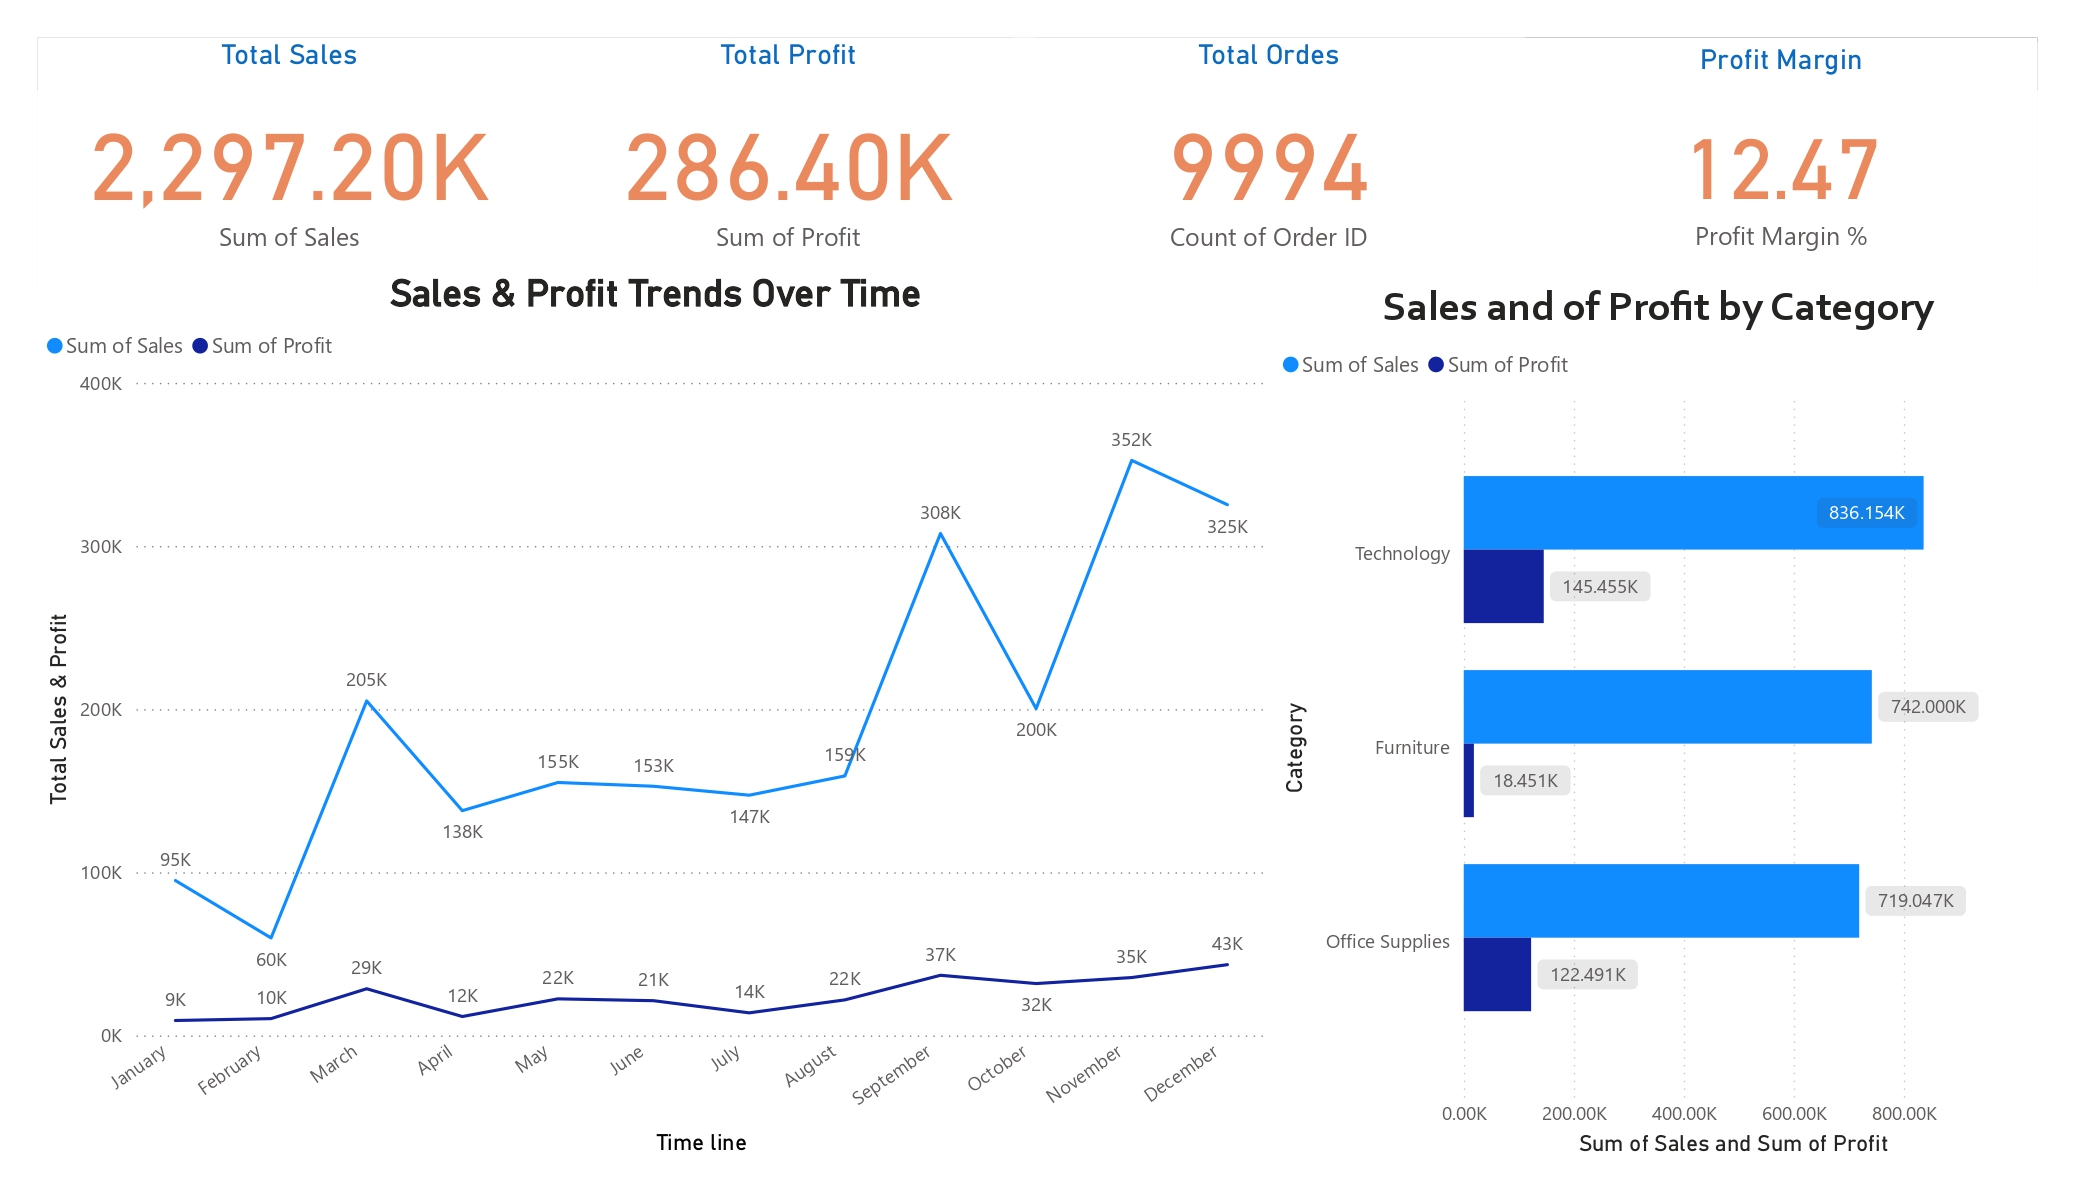

Layout of this report page (visuals, bound fields, positions):
{"tool":"powerbi","page":{"name":"Total Sales & Profit Trends","canvas":[1280,720],"ordinal":0},"visuals":[{"type":"card","title":"Total Sales","fields":{"Values":["Sum(Sample - Superstore.Sales)"]},"box":[0,0,322.5,149.6],"z":0},{"type":"card","title":"Total Profit","fields":{"Values":["Sum(Sample - Superstore.Profit)"]},"box":[322.5,0,317,149.6],"z":1000},{"type":"card","title":"Total Ordes","fields":{"Values":["CountNonNull(Sample - Superstore.Order ID)"]},"box":[624.4,0,328,149.6],"z":2000},{"type":"card","title":"Profit Margin","fields":{"Values":["Sample - Superstore.Profit Margin %"]},"box":[952.3,2.7,328,149.6],"z":3000},{"type":"lineChart","title":"Sales & Profit Trends Over Time","fields":{"Y":["Sum(Sample - Superstore.Sales)","Sum(Sample - Superstore.Profit)"],"Category":["Sample - Superstore.Order Date.Variation.Date Hierarchy.Month"]},"box":[0,150,791.4,570],"z":4000},{"type":"clusteredBarChart","title":"Sales and of Profit by Category","fields":{"Category":["Sample - Superstore.Category"],"Y":["Sum(Sample - Superstore.Sales)","Sum(Sample - Superstore.Profit)"]},"box":[791.8,152.3,488.5,568.1],"z":5000}]}

Visuals, with their boxes on the page's 1280x720 design canvas (x1, y1, x2, y2). These are canvas units, not pixel positions in the 2075x1200 screenshot, which may show the page scaled, cropped or inside an application window:
"Total Sales" card: select_region(0, 0, 322, 150)
"Total Profit" card: select_region(322, 0, 640, 150)
"Total Ordes" card: select_region(624, 0, 952, 150)
"Profit Margin" card: select_region(952, 3, 1280, 152)
"Sales & Profit Trends Over Time" lineChart: select_region(0, 150, 791, 720)
"Sales and of Profit by Category" clusteredBarChart: select_region(792, 152, 1280, 720)
